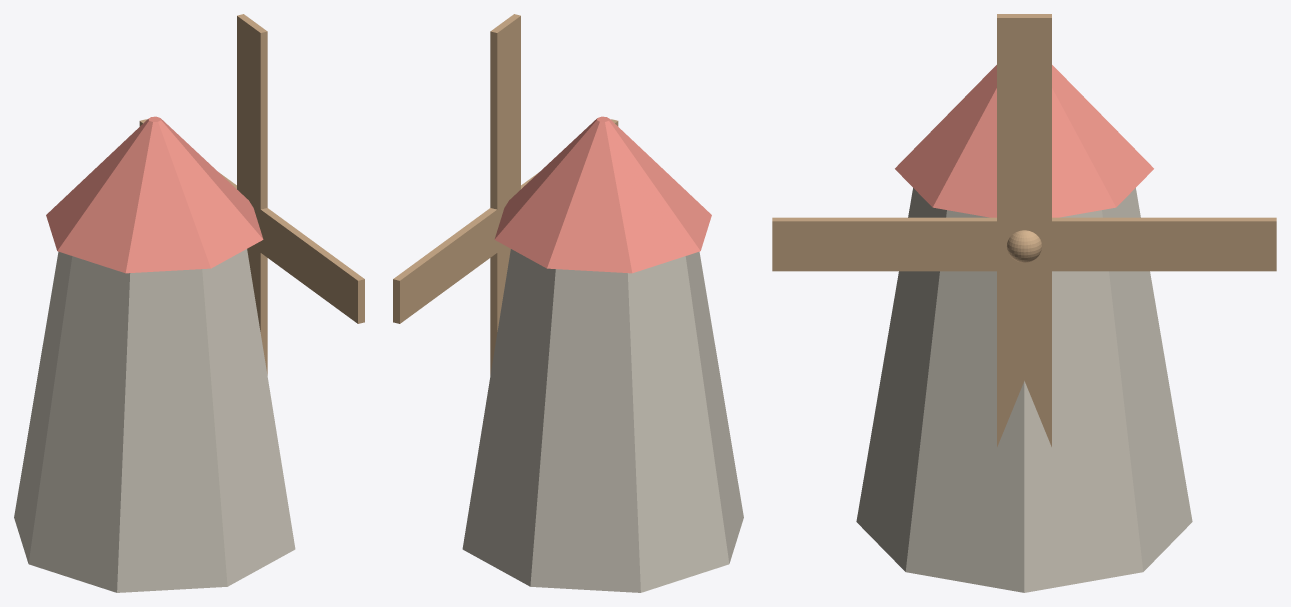
Rendered from lp_windmuehle.glb.
3 views of the same model, side by side, from view 1: azimuth 30°, elevation 25°; view 2: azimuth 150°, elevation 25°; view 3: azimuth 270°, elevation 25° (orthographic). The views are drawn at different scales.
Visible parts, largest first — view 1: Cone, Cone.001, Blades; view 2: Cone, Cone.001, Blades; view 3: Cone, Blades, Cone.001.
Part boxes in pixels (x1,y1,x2,y2): Cone: [14, 249, 295, 592]; Cone.001: [46, 116, 263, 273]; Blades: [139, 14, 364, 375]; Cone: [462, 249, 743, 592]; Cone.001: [494, 116, 711, 273]; Blades: [393, 14, 618, 375]; Cone: [856, 188, 1192, 592]; Blades: [772, 14, 1276, 446]; Cone.001: [895, 65, 1153, 217].
Bounding box in the file's own units: 2.2 × 4.05 × 3.3.
